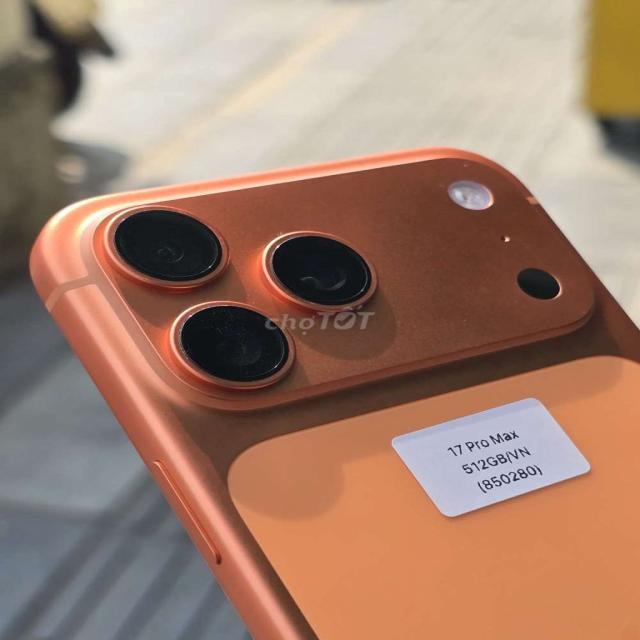gen_17: (18, 140, 640, 640)
